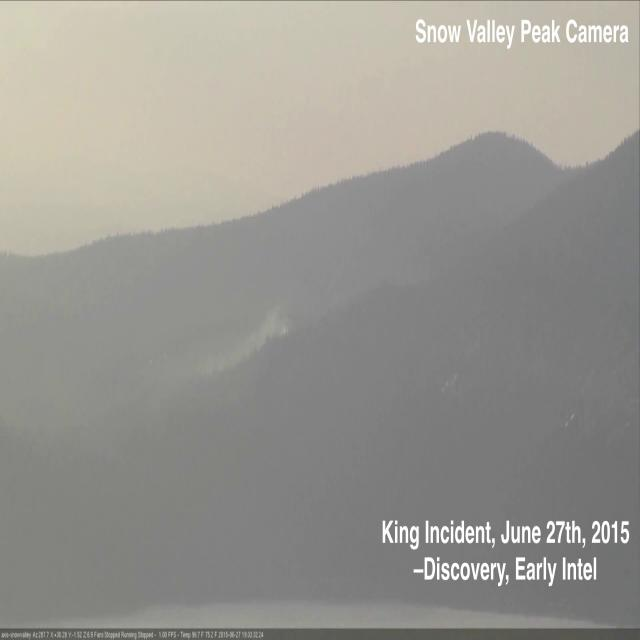smoke: (201, 299, 293, 397)
